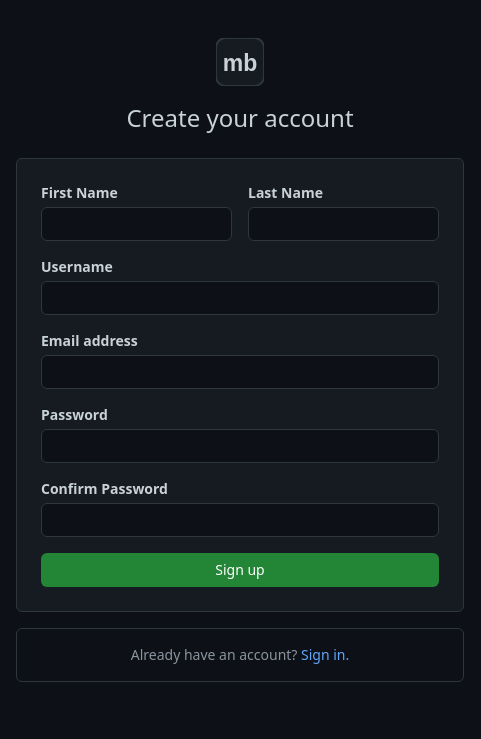
Test: Register Component › displays an error when passwords do not match
Note: Fill out the required fields so the form is allowed to submit
In the field labelled "First Name": {"x": 136, "y": 224} [41,207,232,241], type "John"
In the field labelled "Last Name": {"x": 344, "y": 224} [248,207,439,241], type "Doe"
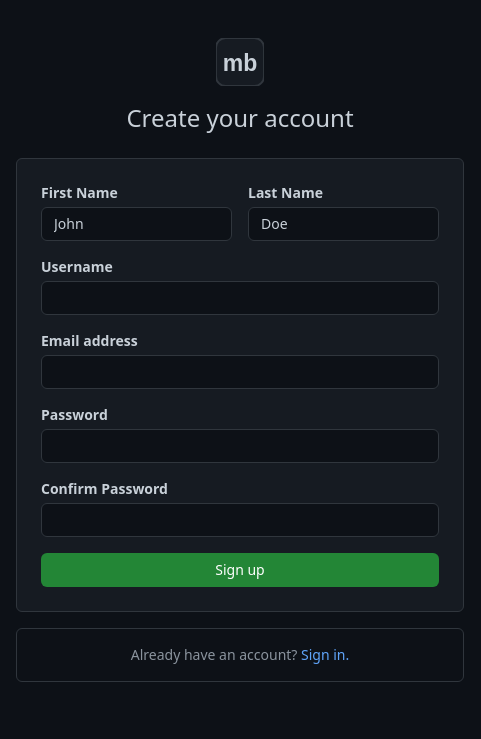
In the field labelled "Username": {"x": 240, "y": 298} [41,281,439,315], type "johndoe"
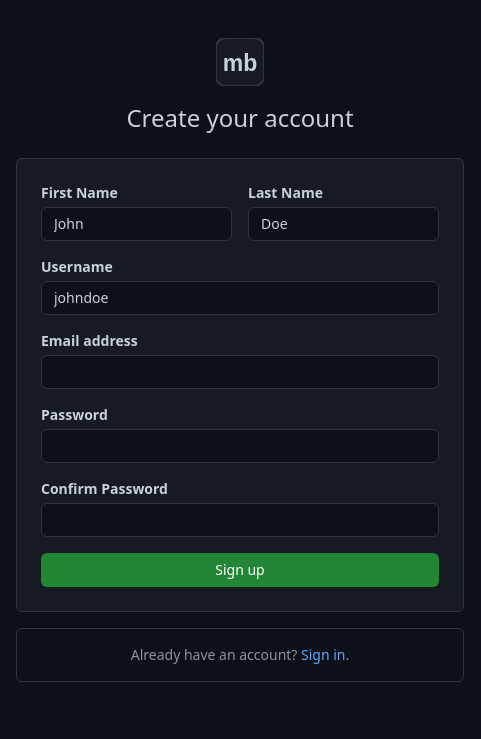
In the field labelled "Email address": {"x": 240, "y": 372} [41,355,439,389], type "john@test.com"
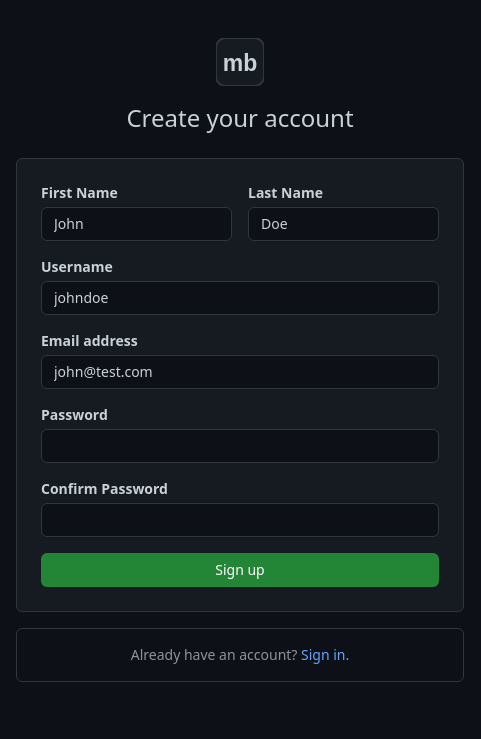
Note: Trigger the password mismatch
In the password field labelled "Password": {"x": 240, "y": 446} [41,429,439,463], type "pass123"
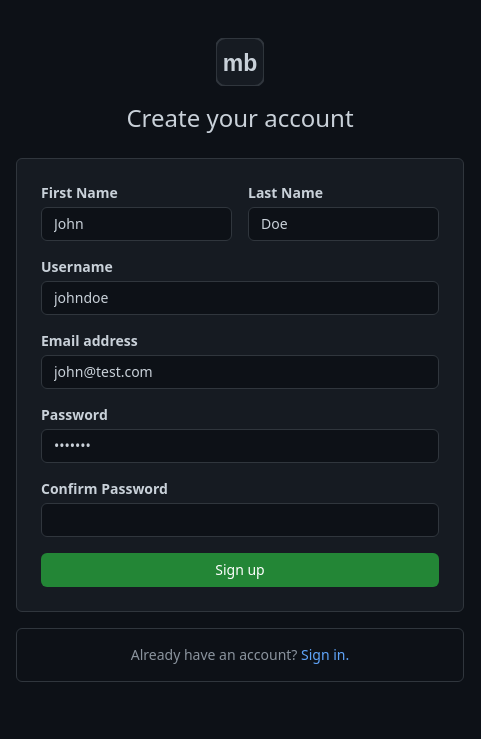
In the password field labelled "Confirm Password": {"x": 240, "y": 520} [41,503,439,537], type "pass456"
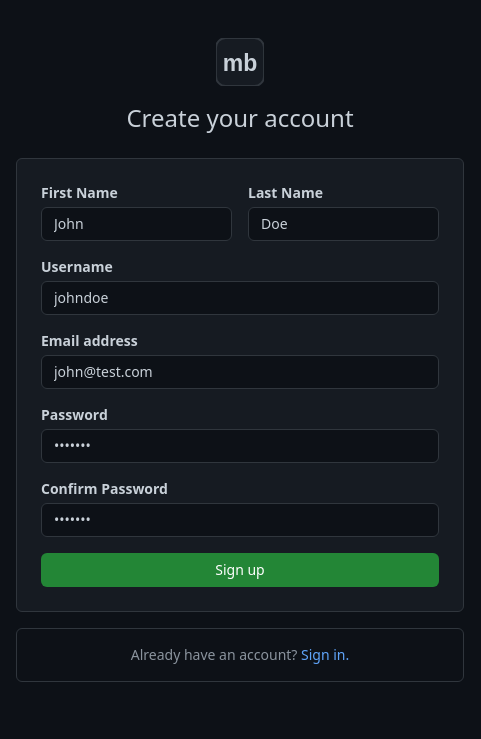
Note: Click submit
Click the button "Sign up": {"x": 240, "y": 570} [41,553,439,587]
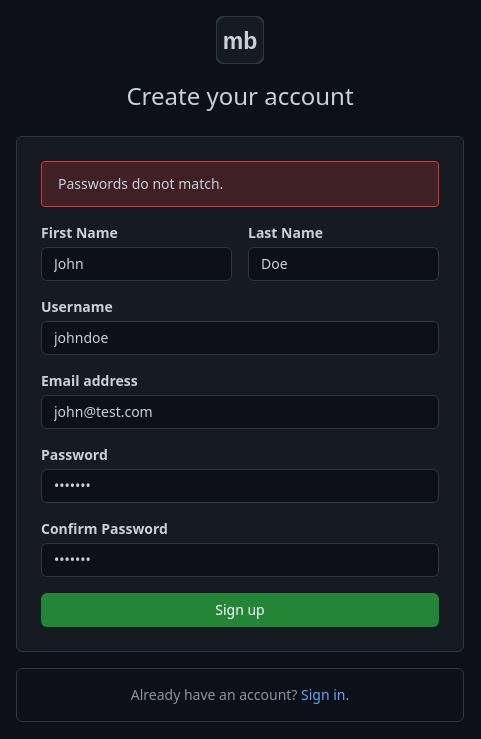
Expected: the text "Passwords do not match." is shown, [41,161,439,207]
